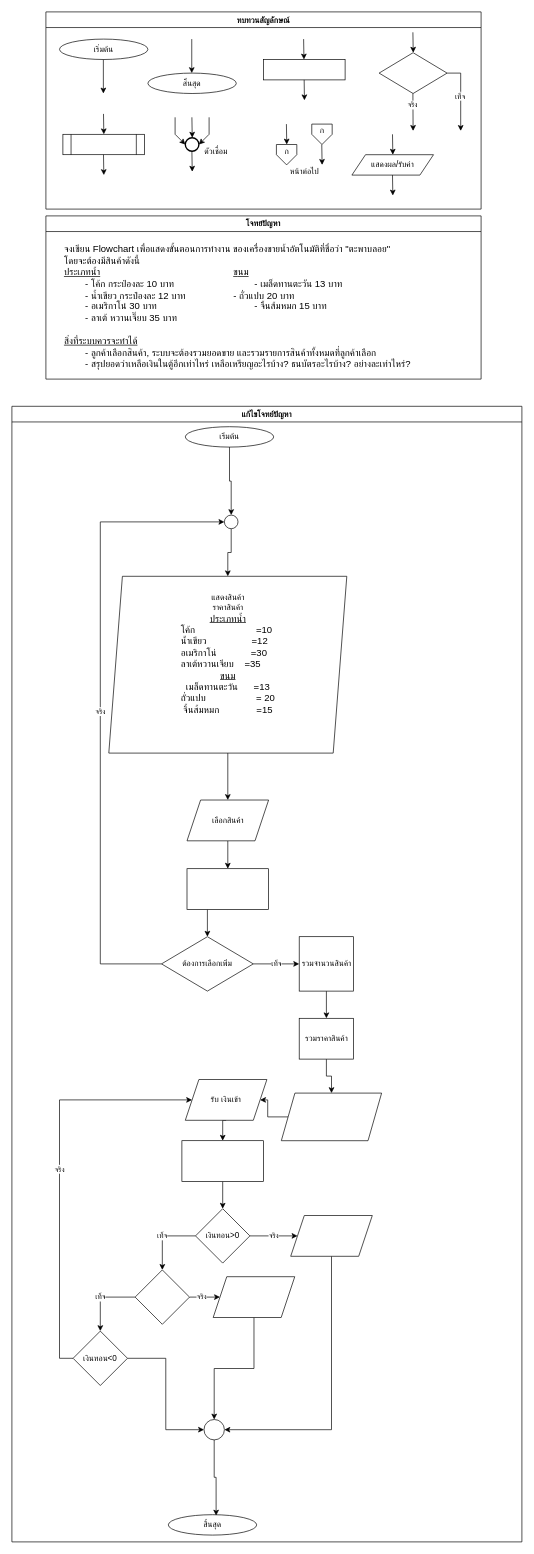
Image size: 534x1554. Some labels were removed from this diagram. The shapes that lost their labels are listed below. From the top down, each one's centre as x and y in pixels, then its label:
At (x=304, y=69): "กระบวนการ".
At (x=412, y=73): "ประโยคเงื่อนไข".
At (x=103, y=144): "ฟังก์ชัน/โมดูล".
At (x=227, y=889): "บันทึกข้อมูล".
At (x=331, y=1116): "แสดงราคาที่ต้องจ่ายและรายการสินค้าทังหมด".
At (x=222, y=1161): "เงินทอน=เงินเข้า-ราคาสินค้า".
At (x=331, y=1235): "ทอนเงิน".
At (x=162, y=1296): "เงินทอน=0".
At (x=254, y=1297): "ไม่มีเงินทอน".
